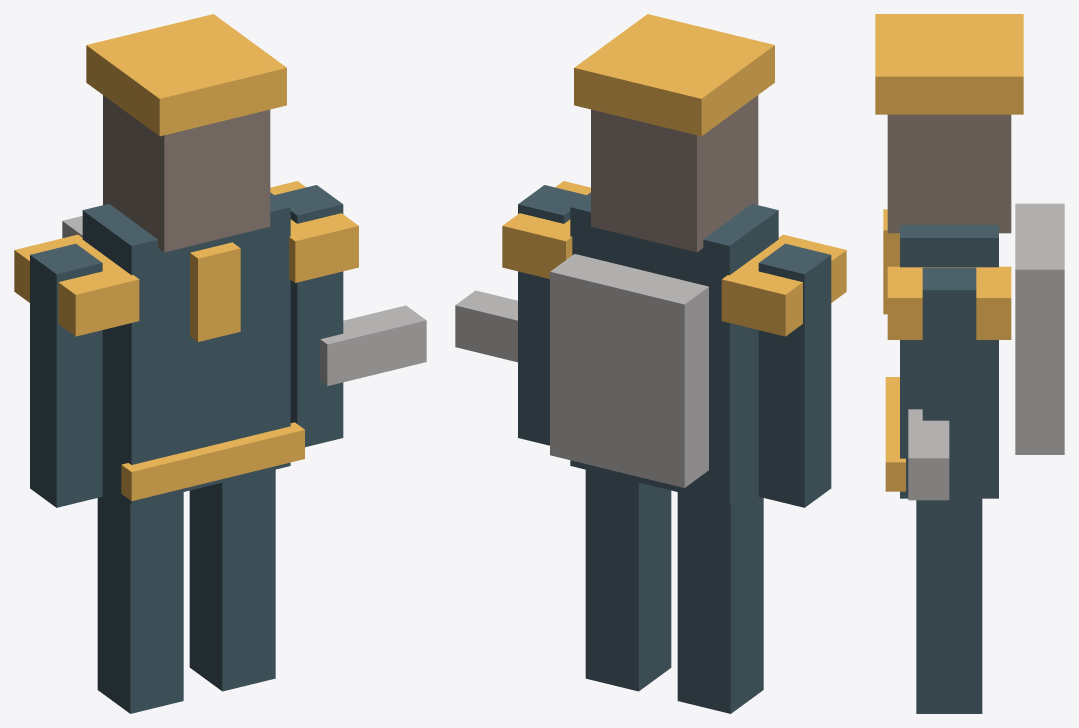
The model's file is 16_edda_gravesong_courier_near_isolation.glb.
3 views of the same model, side by side, from view 1: azimuth 30°, elevation 25°; view 2: azimuth 150°, elevation 25°; view 3: azimuth 270°, elevation 25° (orthographic).
Parts seen in each view (by area): view 1: Edda Gravesong, Courier near Isolation; view 2: Edda Gravesong, Courier near Isolation; view 3: Edda Gravesong, Courier near Isolation.
Part boxes in pixels (x1=…): Edda Gravesong, Courier near Isolation: x1=14, y1=14, x2=426, y2=713; Edda Gravesong, Courier near Isolation: x1=455, y1=14, x2=846, y2=713; Edda Gravesong, Courier near Isolation: x1=875, y1=14, x2=1064, y2=713.
Bounding box in the file's own units: 0.9642 × 1.59 × 0.4327.
